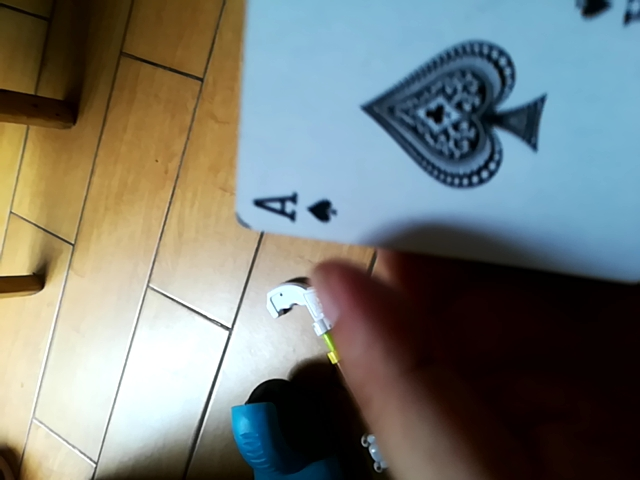ht a: (222, 0, 640, 279)
